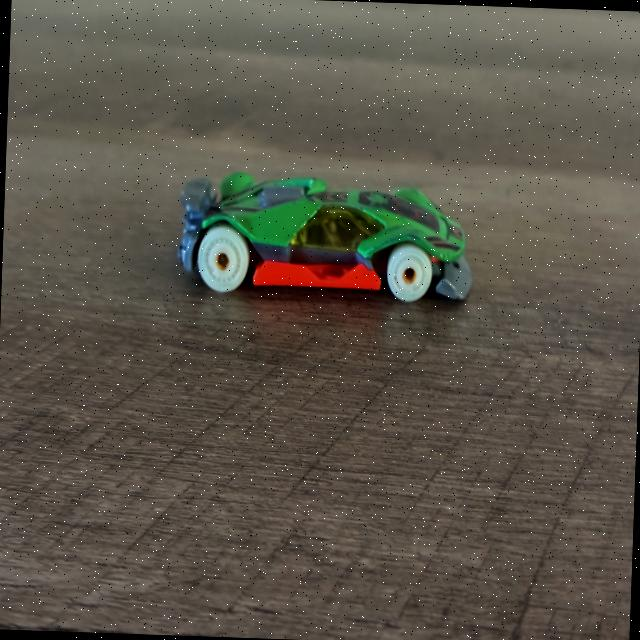air-plane: (144, 132, 513, 354)
